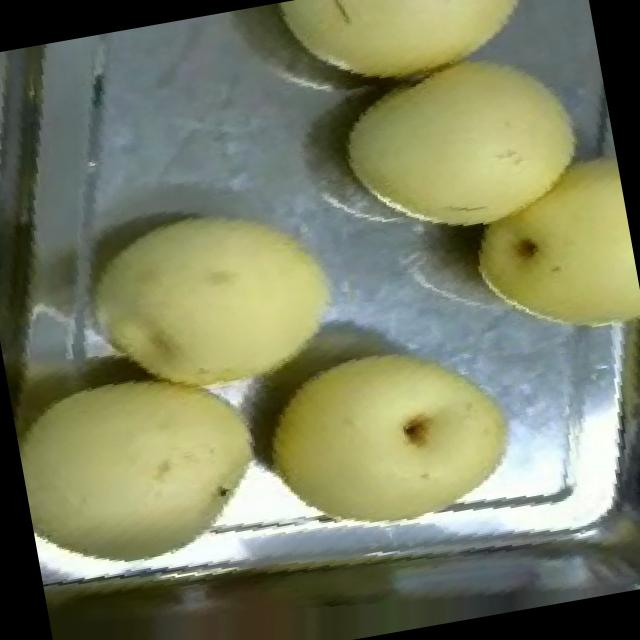Fruit: (46, 155, 378, 456), (229, 296, 550, 570), (307, 13, 624, 277), (3, 322, 292, 592), (440, 128, 640, 371), (254, 0, 565, 107)
